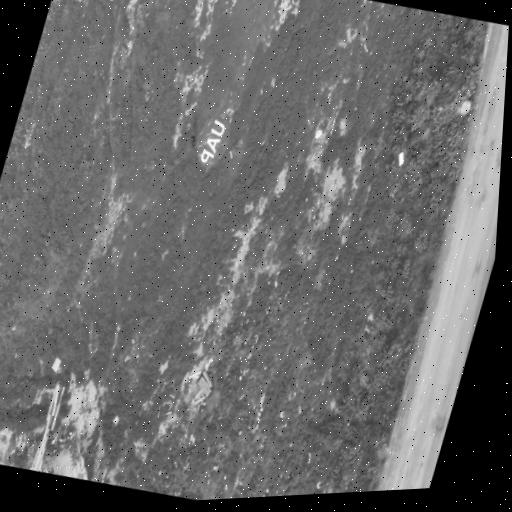person: (191, 135, 196, 146)
uap: (196, 117, 228, 169)
